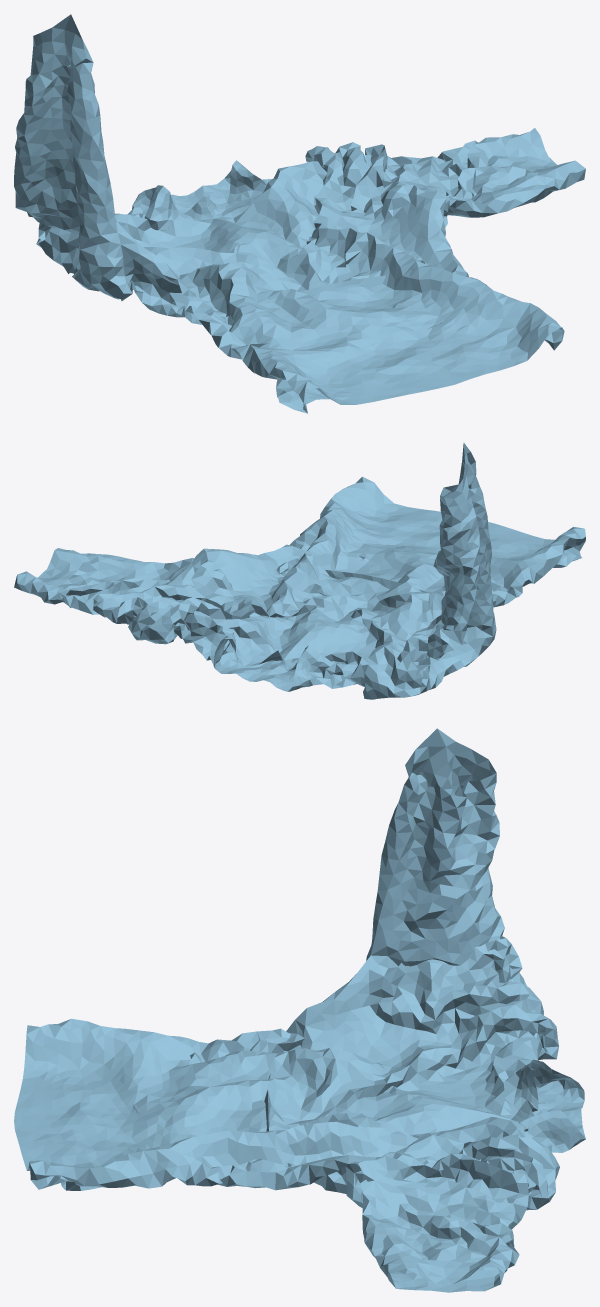
The model's file is frame_08.glb.
3 views of the same model, one above another, from view 1: azimuth 30°, elevation 25°; view 2: azimuth 150°, elevation 25°; view 3: azimuth 270°, elevation 25° (orthographic). The views are drawn at different scales.
Parts seen in each view (by area): view 1: frame_08.obj; view 2: frame_08.obj; view 3: frame_08.obj.
Boxes of the visible parts, left/top/right/bottom form: frame_08.obj: left=14, top=14, right=585, bottom=413; frame_08.obj: left=14, top=442, right=585, bottom=699; frame_08.obj: left=14, top=728, right=585, bottom=1292.
Size of the model in its own units: 1.58 by 0.8049 by 1.35.
